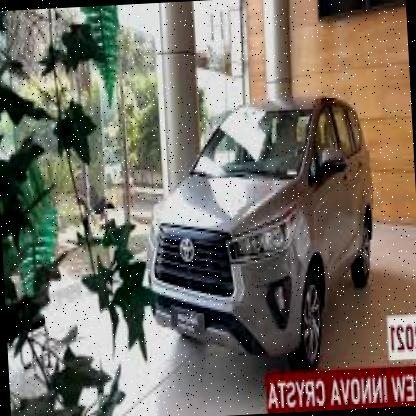car: (132, 88, 392, 375)
